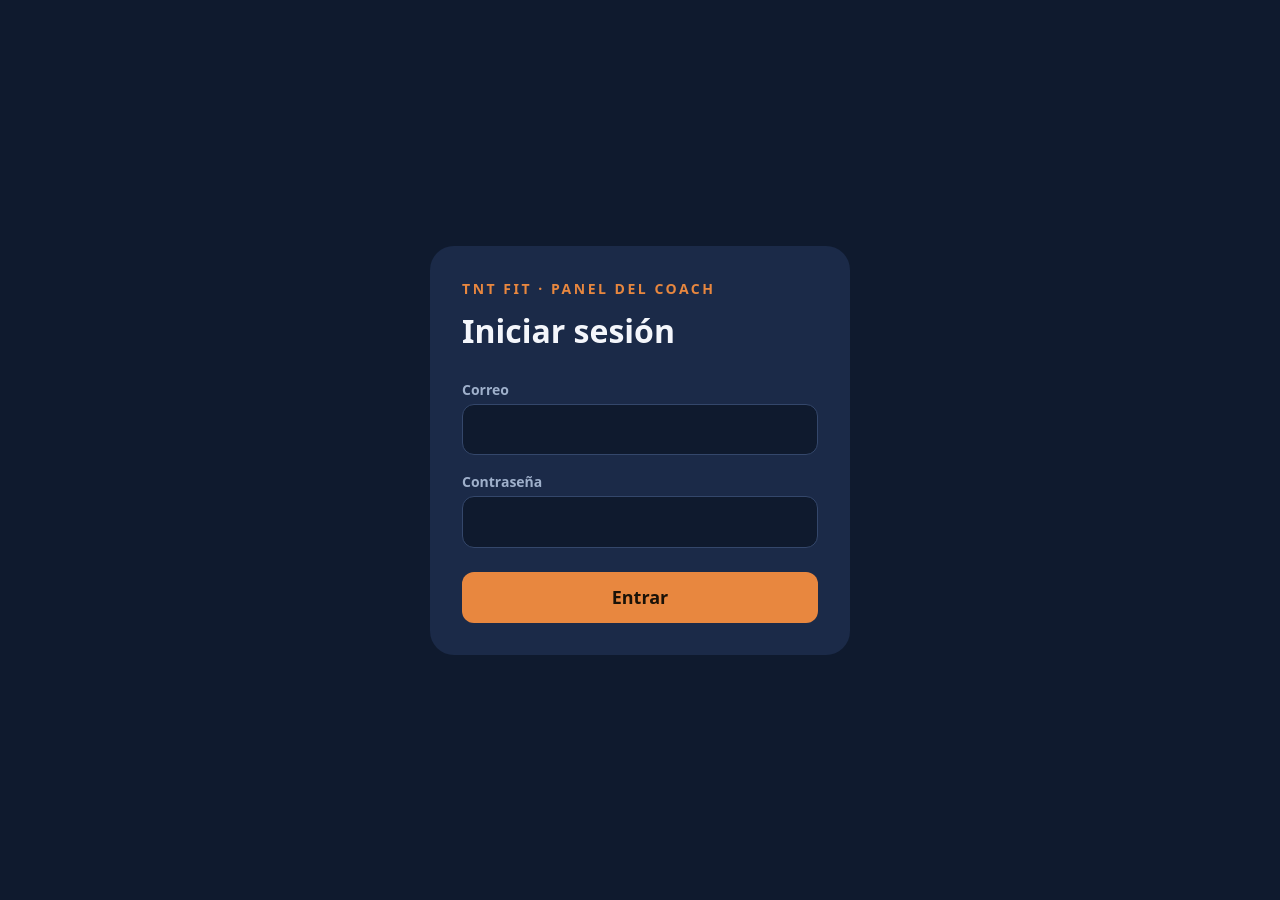
login › si el token vence (401) vuelve al login con un aviso
Type "coach@tnt.demo" into the field labelled "Correo" at coordinates (640, 429), box [462,404,818,455]
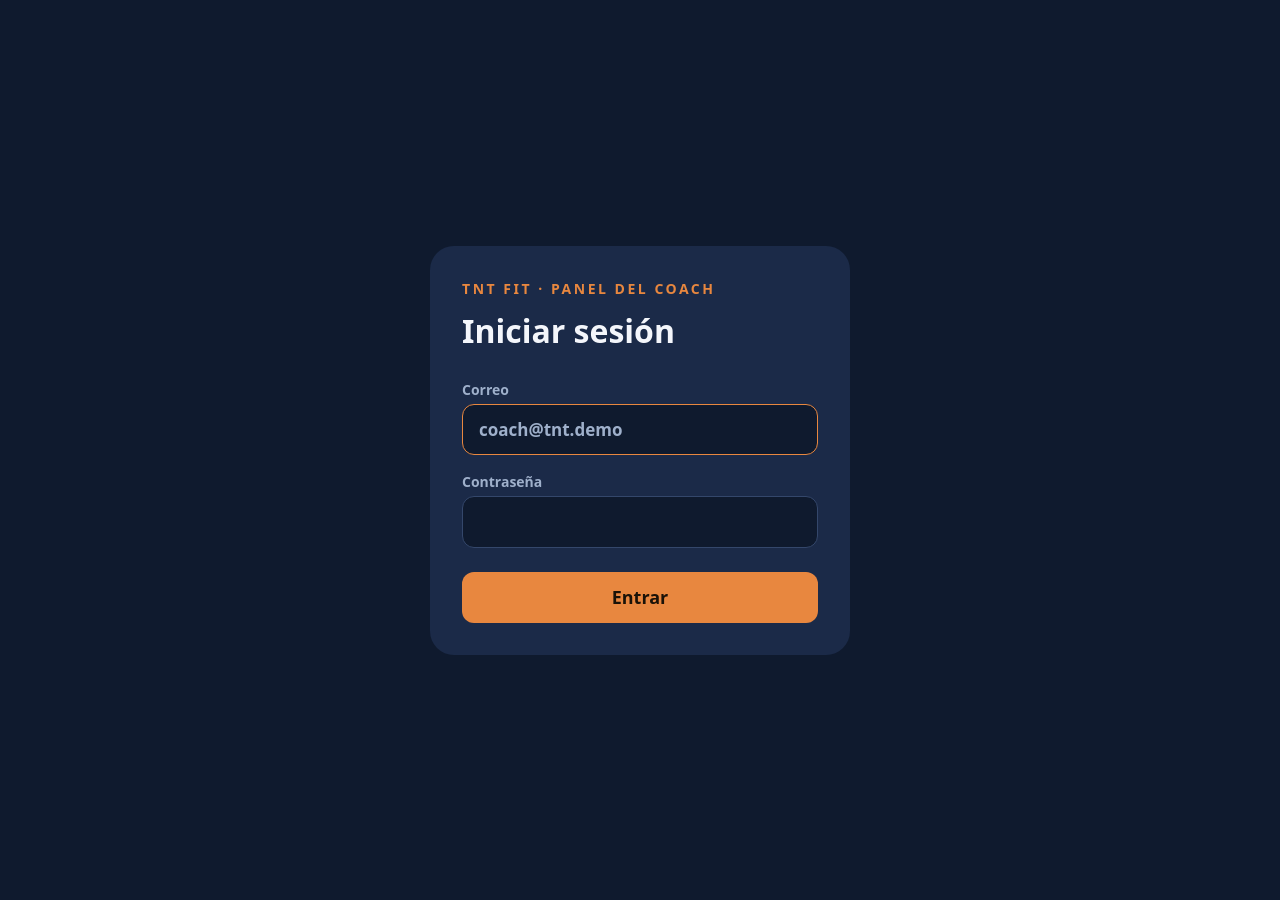
Type "bien" into the password field labelled "Contraseña" at coordinates (640, 522), box [462,496,818,548]
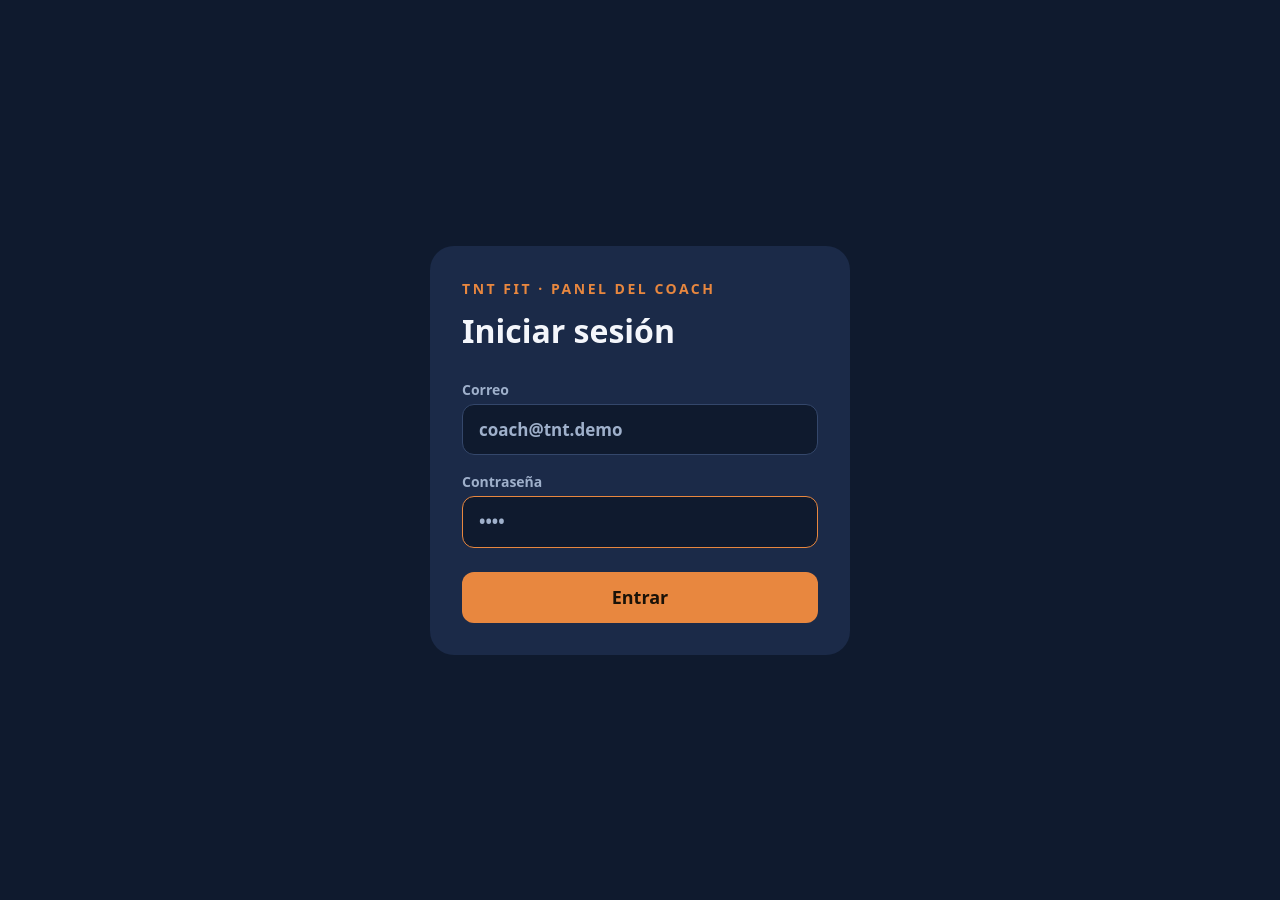
Click the button "Entrar" at coordinates (640, 597), box [462,572,818,622]
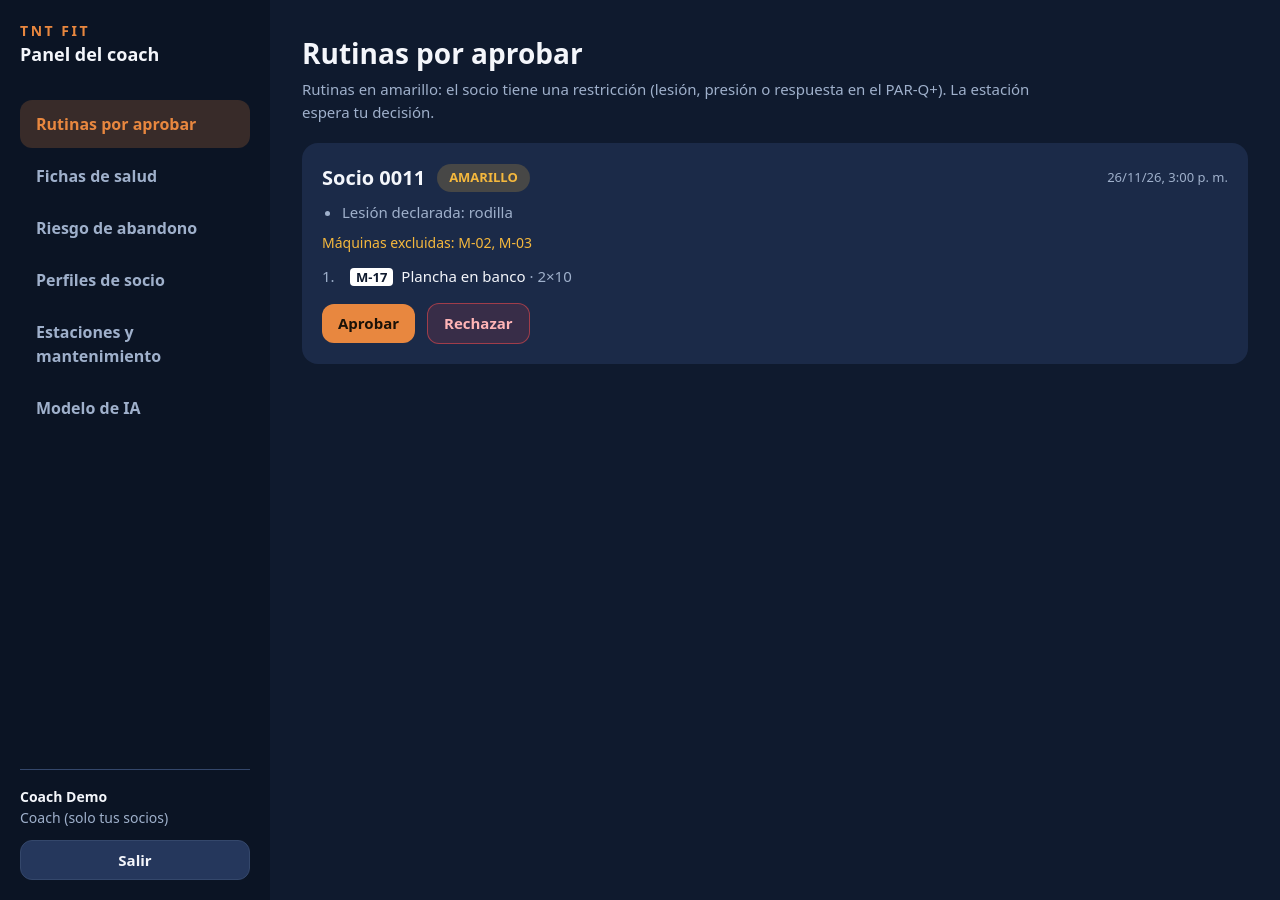
Result: the heading "Rutinas por aprobar" is shown at [302,34,583,72]
Click the button "Riesgo de abandono" at coordinates (135, 228), box [20,204,250,252]
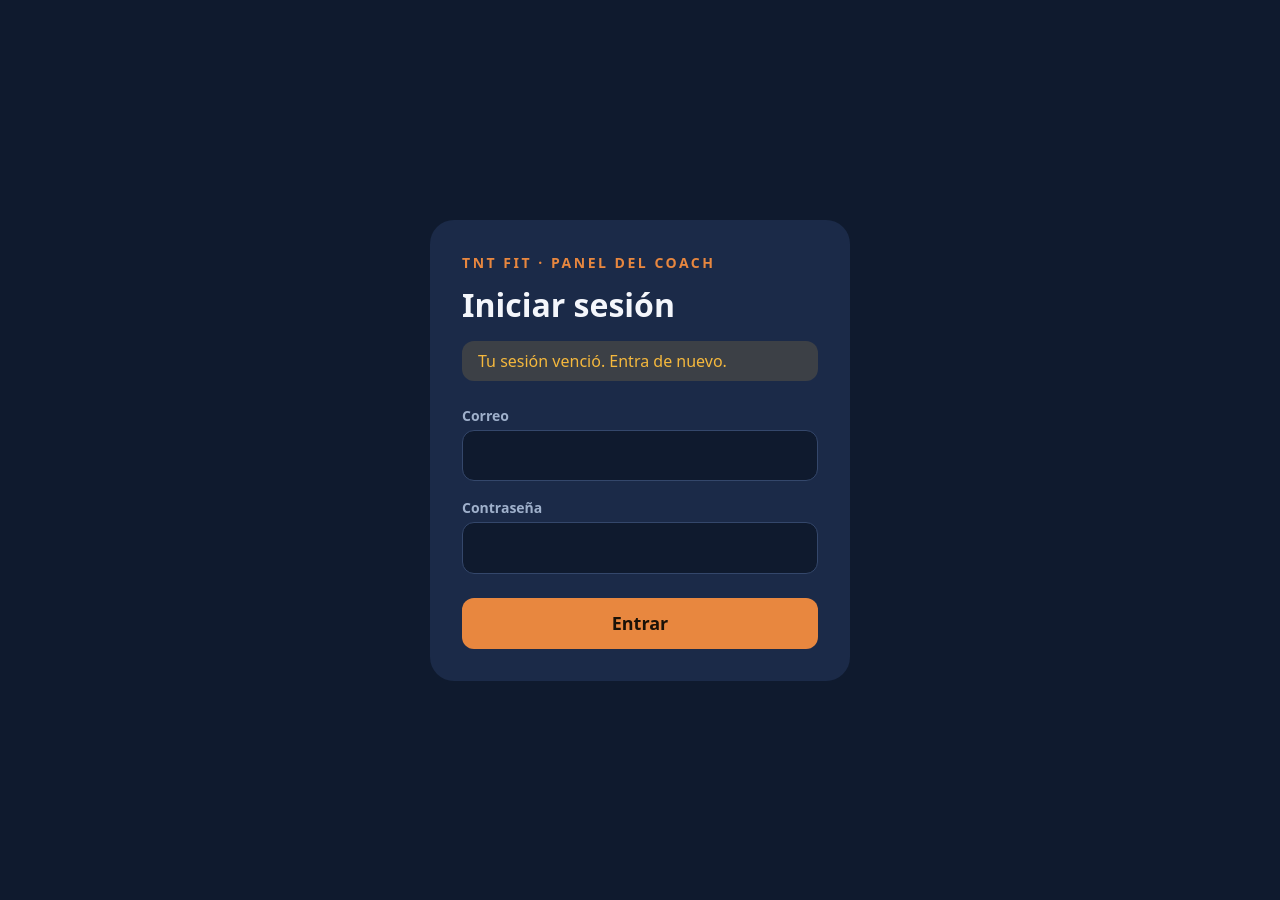
Result: the text "Tu sesión venció. Entra de nuevo." is shown at [462,340,818,380]
Result: the button "Entrar" is shown at [462,598,818,648]
